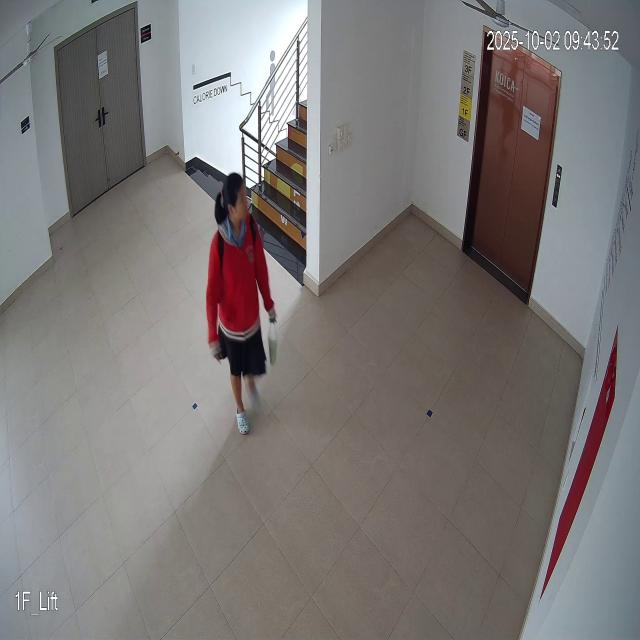face: (218, 164, 252, 234)
